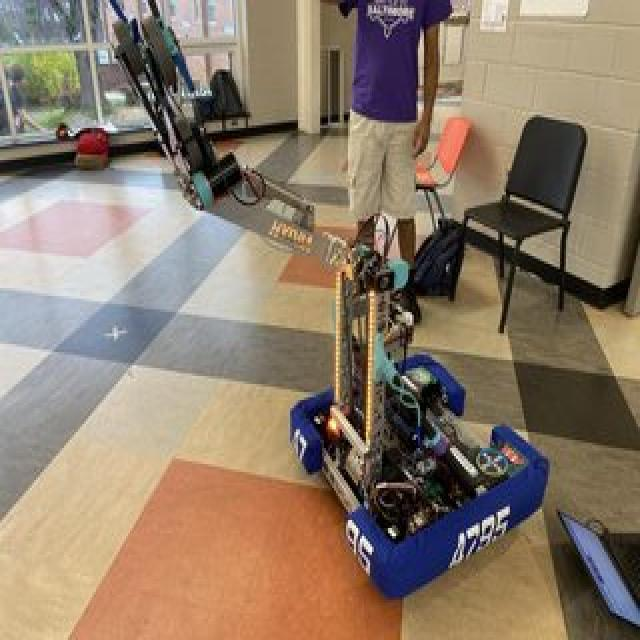robot: (95, 0, 555, 592)
